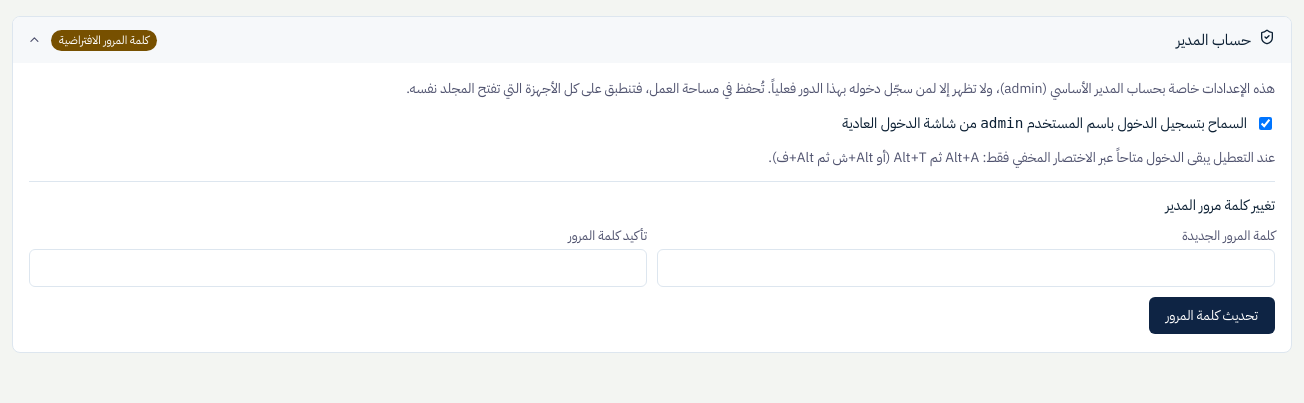
Test: AdminAccountSection — editing › does not apply the new passcode when the workspace write fails
Type "new-pass" into the password field labelled "كلمة المرور الجديدة".
click(966, 268); type("new-pass")  # box left=657, top=249, right=1275, bottom=287
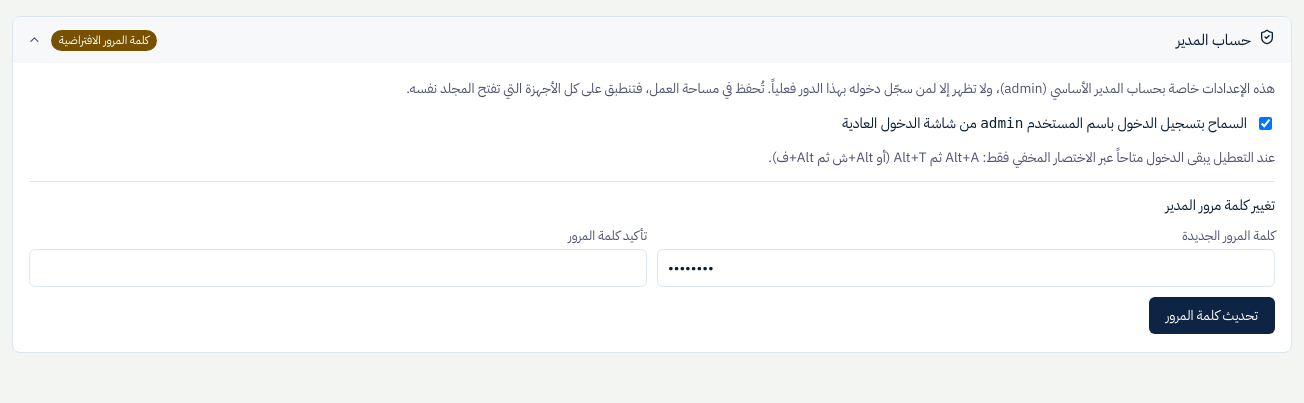
Type "new-pass" into the password field labelled "تأكيد كلمة المرور".
click(338, 268); type("new-pass")  # box left=29, top=249, right=647, bottom=287
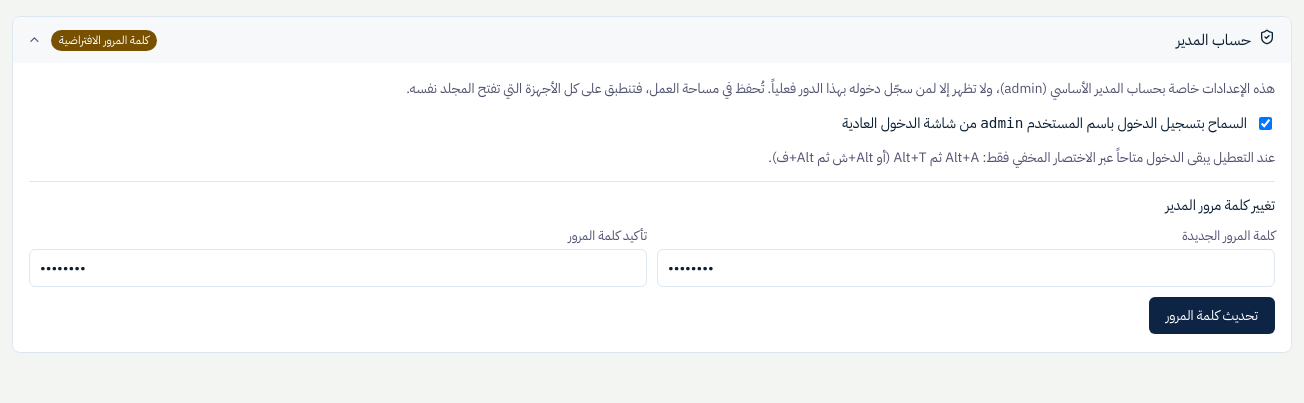
Click the button "تحديث كلمة المرور".
click(1212, 316)  # box left=1149, top=297, right=1275, bottom=334
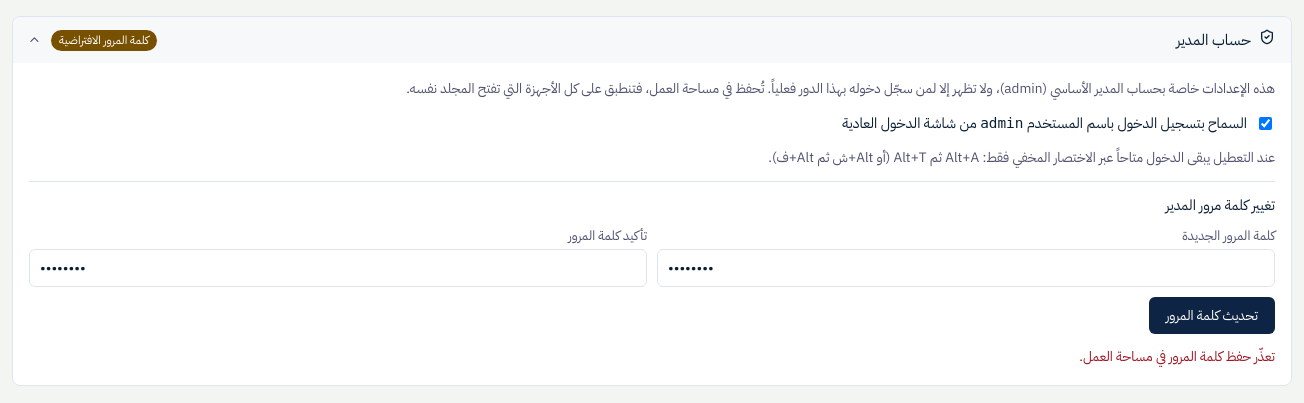
Result: the text "تعذّر حفظ كلمة المرور في مساحة العمل." is shown at left=1079, top=346, right=1275, bottom=367
